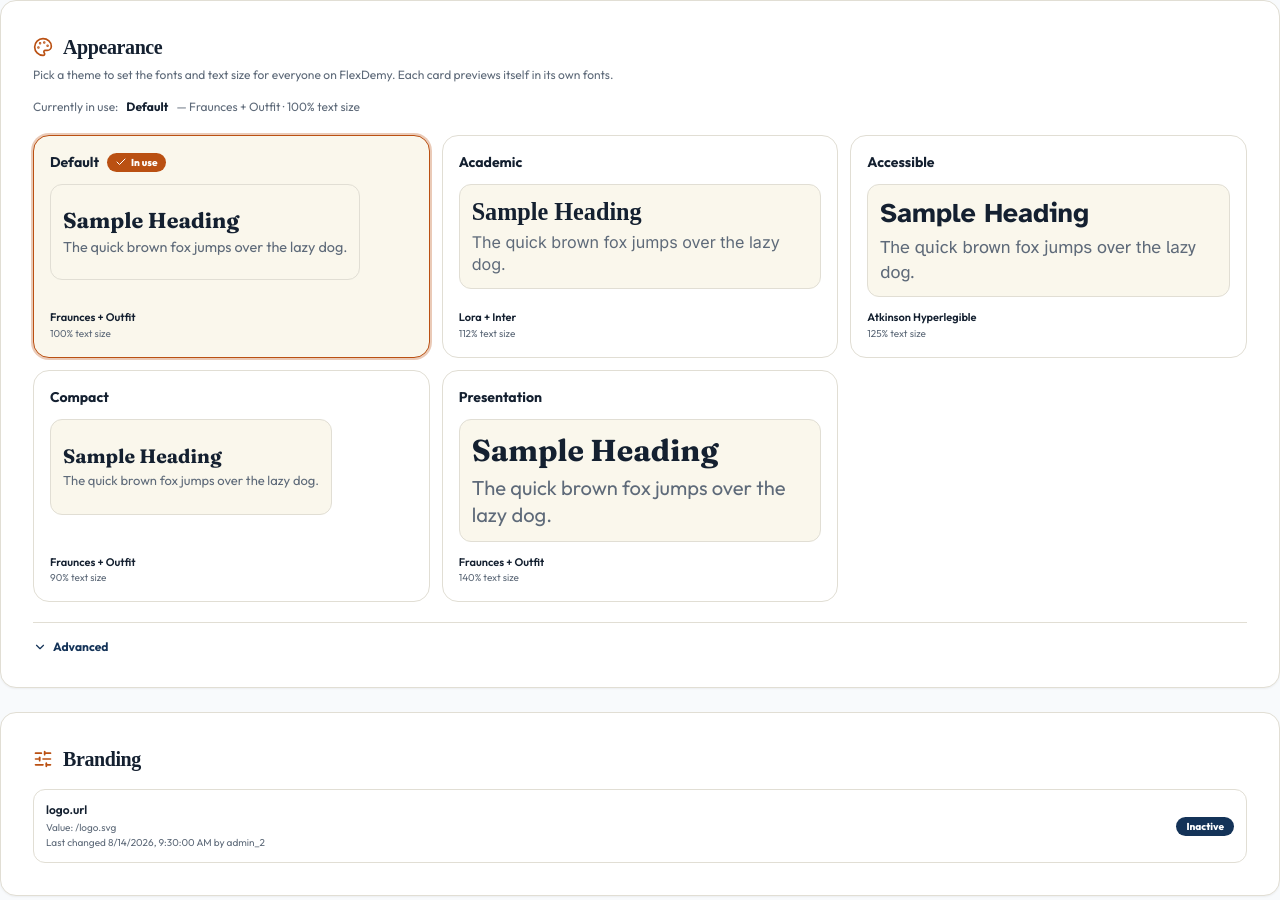
Test: Settings › keeps the composer out of the DOM until Advanced is opened
Click the button "Advanced": (71, 647) [33,639,108,655]
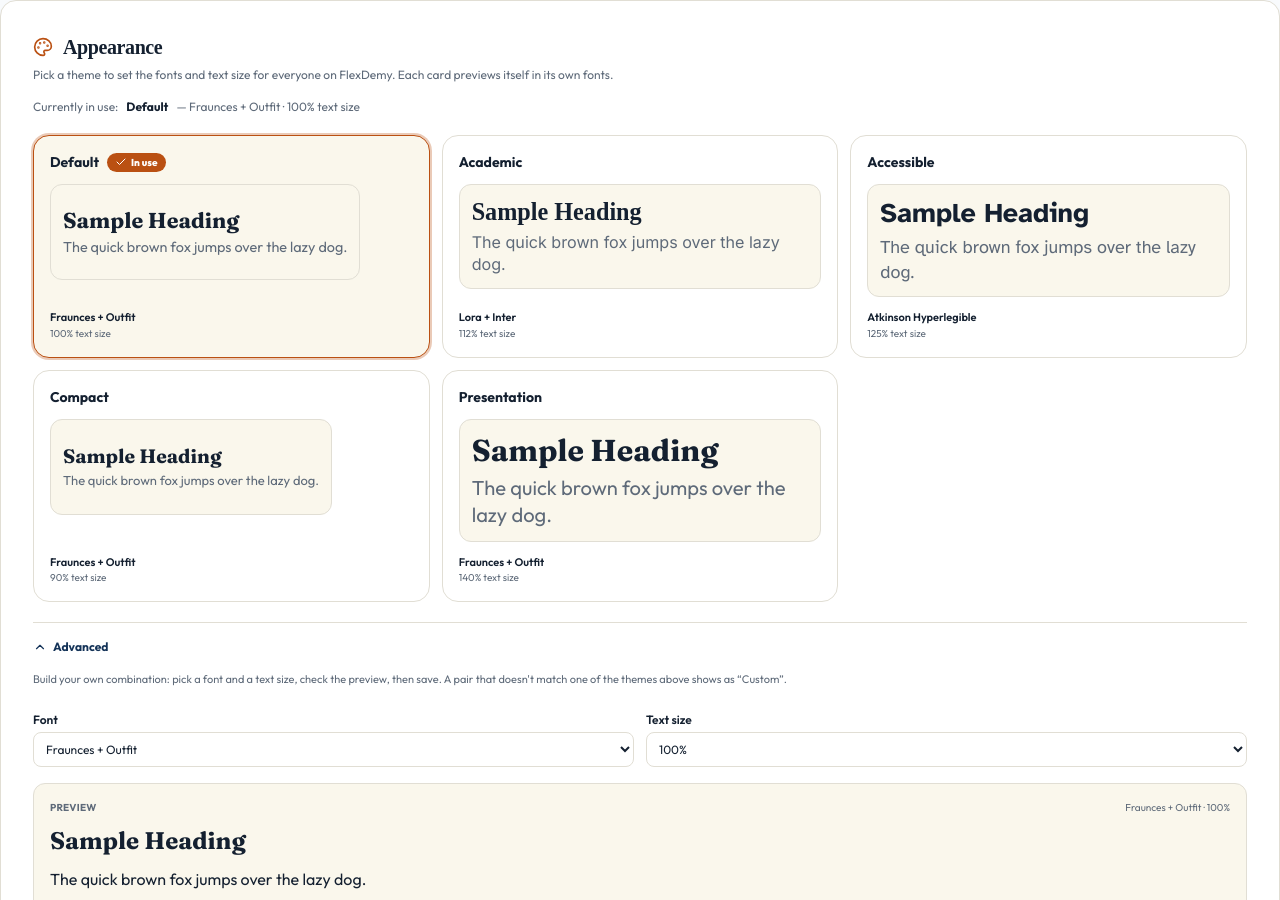
Check: the dropdown labelled "Font" is shown, box [33,732,634,767]
Check: the dropdown labelled "Text size" is shown, box [646,732,1247,767]
